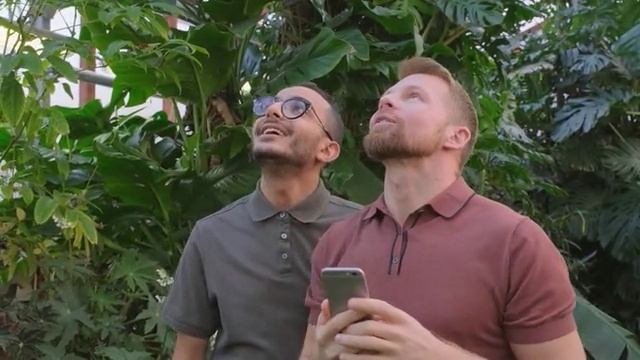phone: (318, 263, 370, 330)
